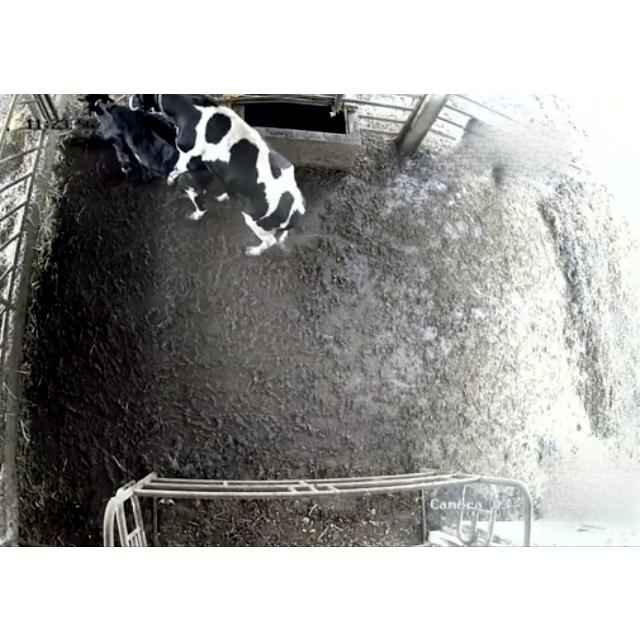ride: (128, 93, 305, 255)
